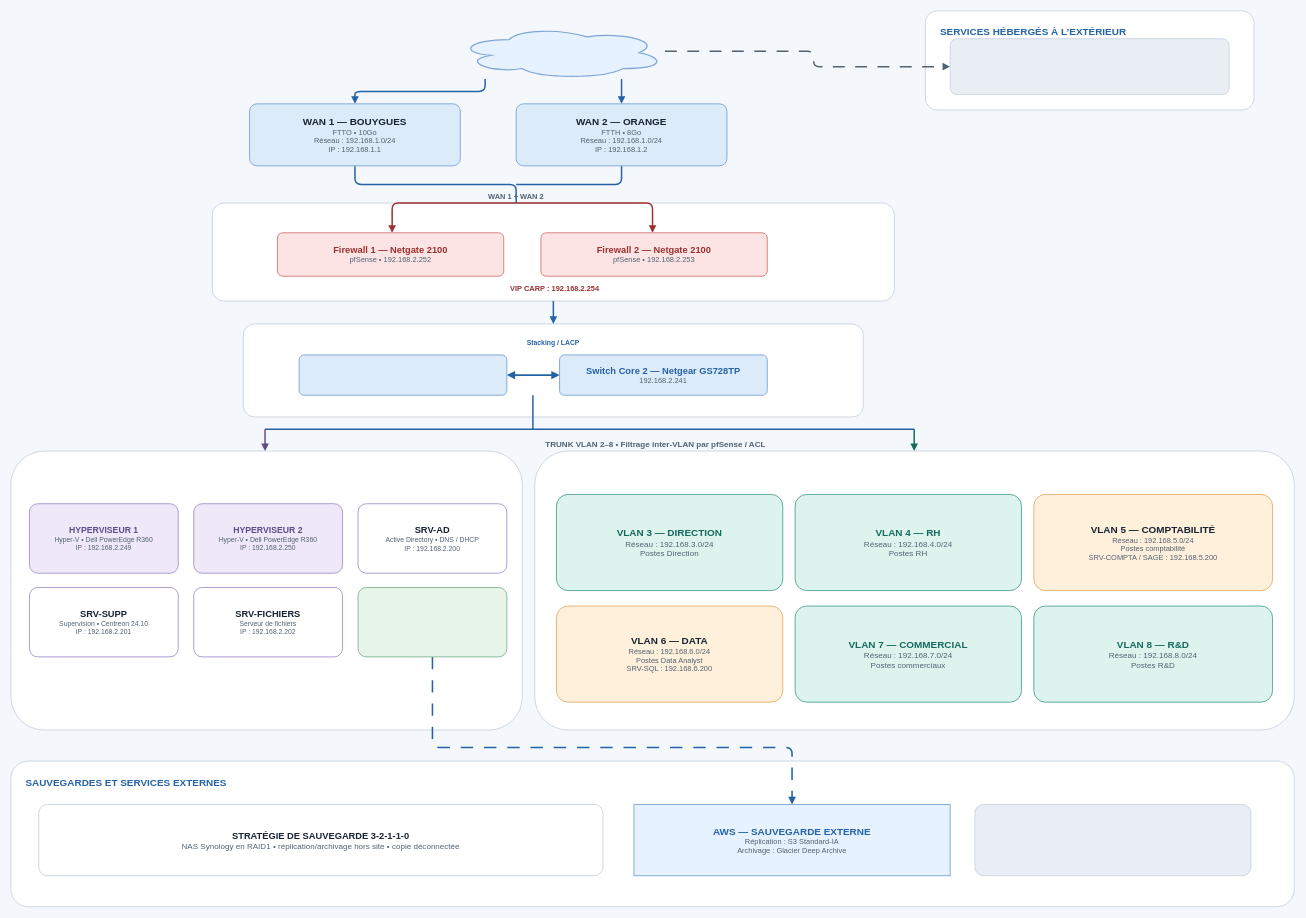
This 1306x918 diagram has some shape labels left out. The shapes that lost their labels are listed below. From the top down, each one's box as (x1, y1, x2, y2) in pixels, then its label:
(456, 25, 665, 79): INTERNET Accès WAN redondés
(949, 38, 1229, 95): SITE WEB DATASC.SEA Hébergement externalisé : Hostinger
(212, 202, 895, 301): CLUSTER PARE-FEU
(298, 354, 507, 395): Switch Core 1 — Netgear GS728TP 192.168.2.240
(243, 323, 864, 417): CŒUR DE RÉSEAU
(10, 450, 523, 730): VLAN 2 — ADMINISTRATION Réseau 192.168.2.0/24
(534, 450, 1294, 730): RÉSEAUX UTILISATEURS VLAN 3 à 8 • Segmentation par service
(357, 587, 507, 657): NAS SAUVEGARDES Synology DS225+ • RAID1 4 To IP : 192.168.2.251
(974, 804, 1251, 876): COPIE HORS LIGNE HDD Seagate IronWolf Pro • 4 To
